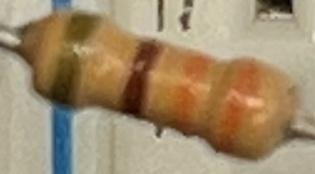Brown: (107, 35, 171, 123)
Orange: (208, 59, 269, 158), (162, 51, 221, 136)
Side-Gold: (41, 11, 108, 109)
